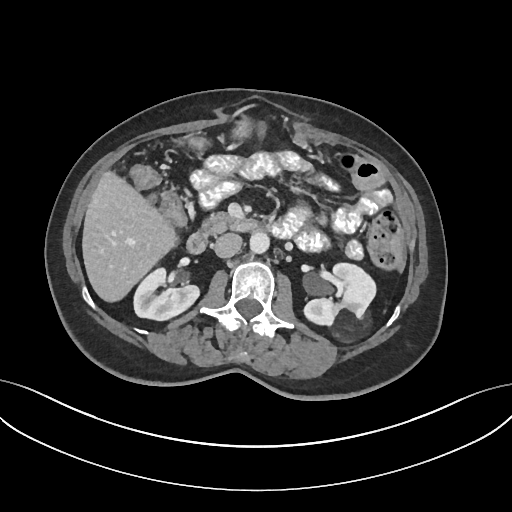Lesion: (330, 307, 374, 343)
